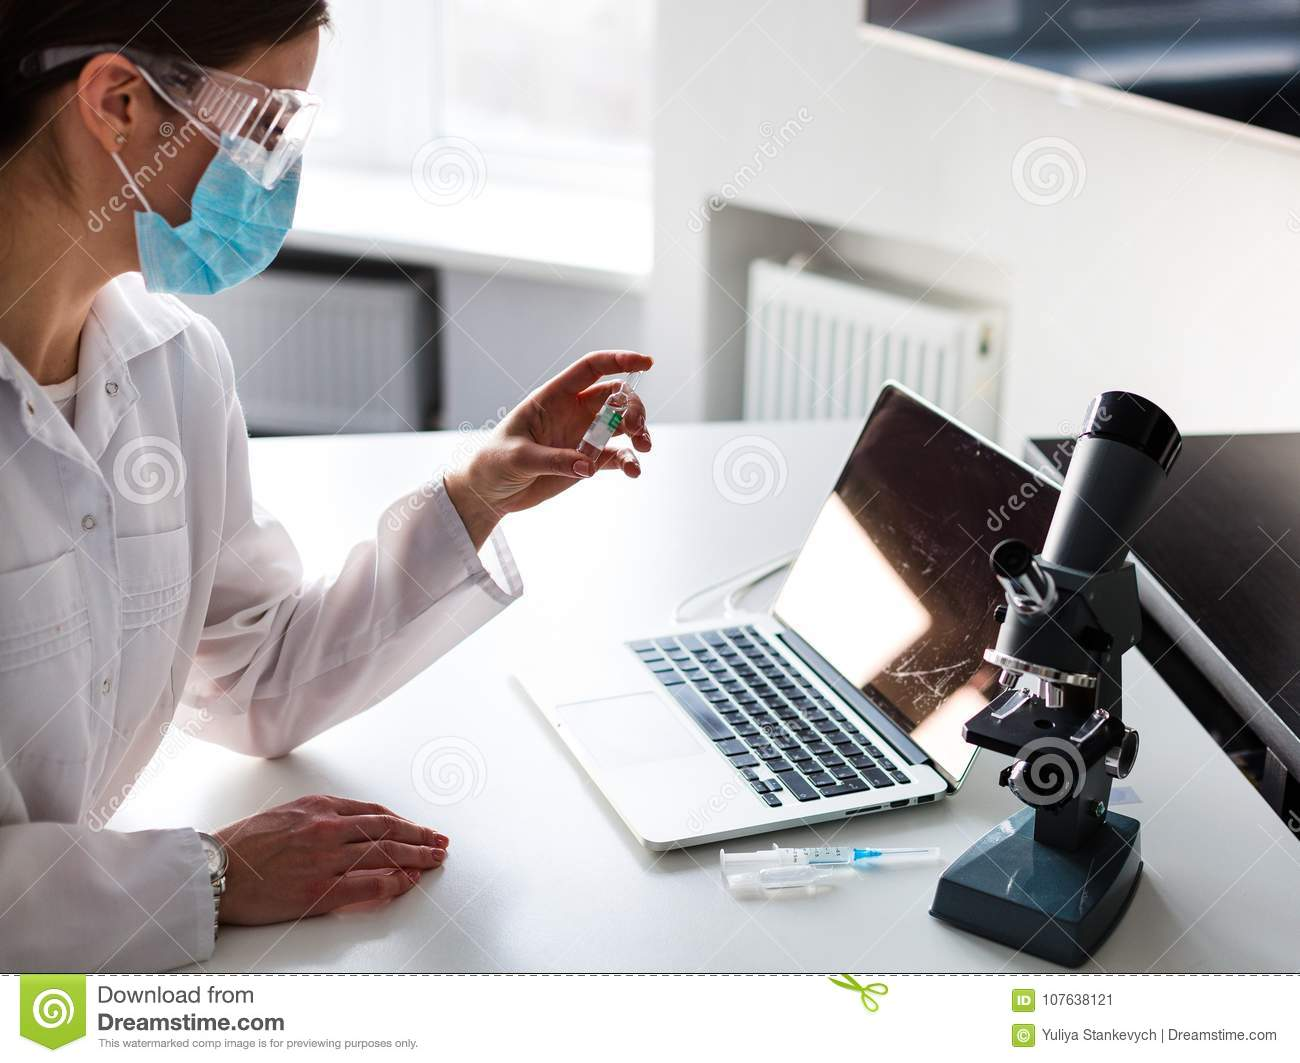mask: (143, 138, 309, 284)
